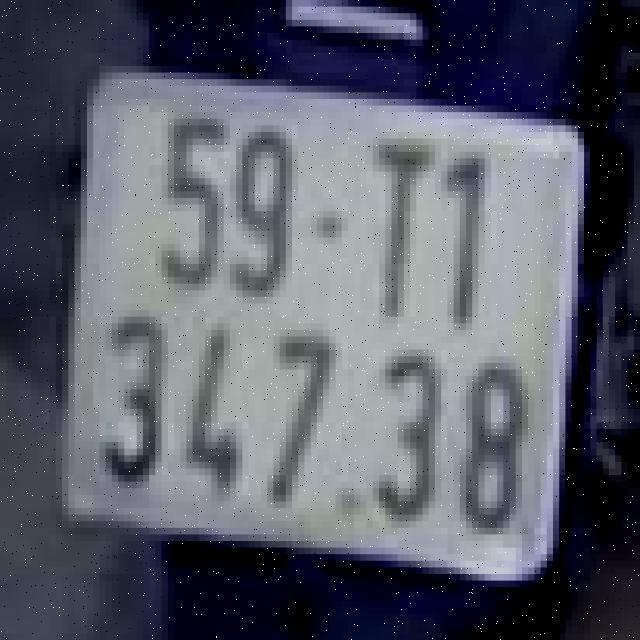1: (444, 125, 513, 330)
3: (370, 340, 444, 544), (96, 310, 171, 495)
4: (171, 310, 252, 508)
5: (155, 102, 230, 294)
7: (261, 310, 342, 515)
8: (448, 350, 528, 541)
9: (230, 102, 298, 300)
T: (364, 128, 438, 326)
